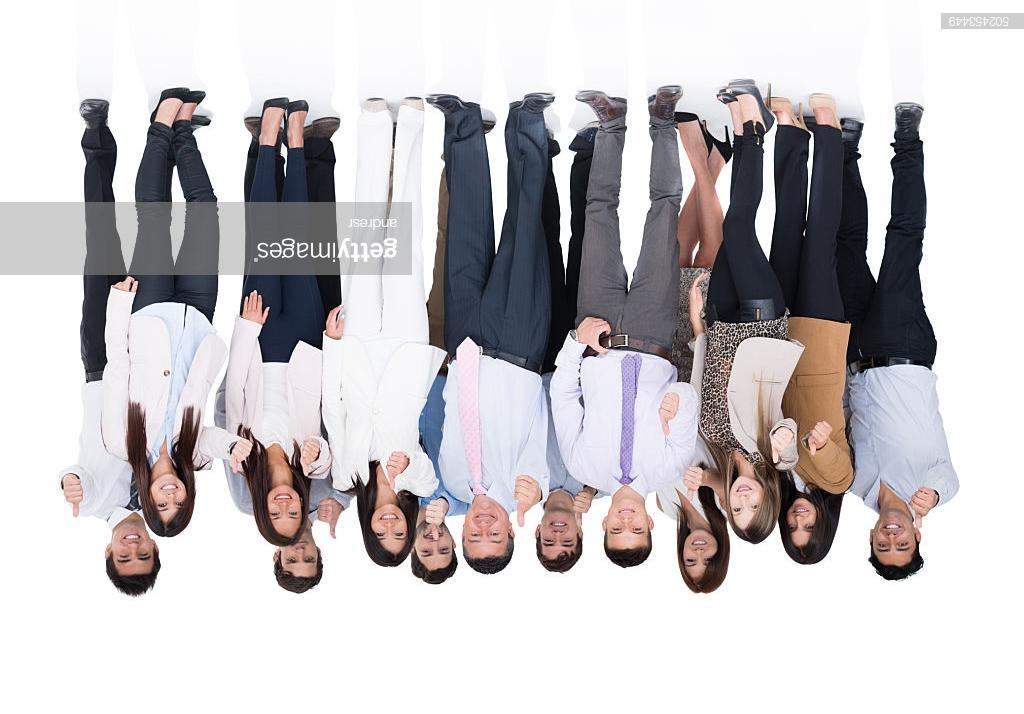thumbsdown: (515, 476, 539, 527), (909, 487, 934, 528), (807, 420, 833, 456), (658, 393, 679, 436), (425, 500, 445, 540), (317, 499, 337, 539), (771, 428, 793, 463), (64, 478, 83, 517), (232, 440, 253, 474), (300, 439, 319, 476), (683, 466, 703, 501), (573, 491, 593, 526), (386, 452, 404, 490)
